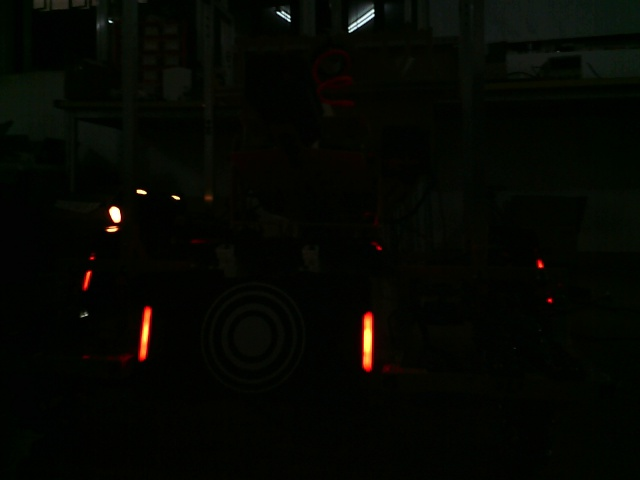lamp: (132, 305, 158, 364), (355, 311, 380, 372)
